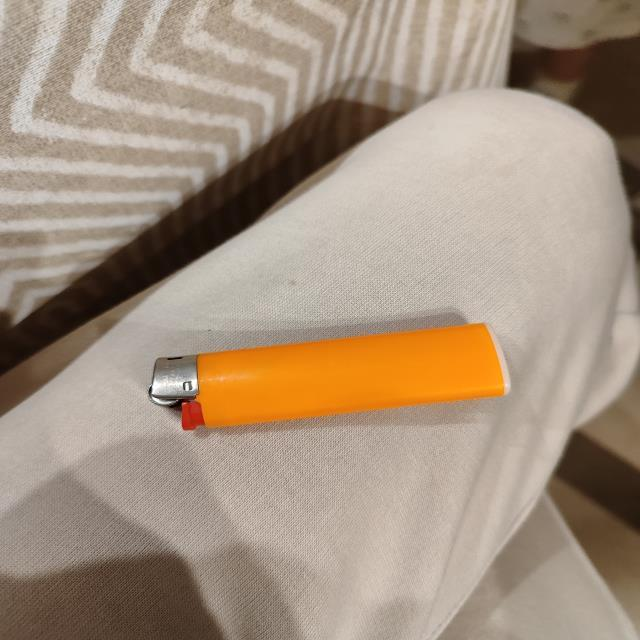lighter: (148, 323, 509, 429)
